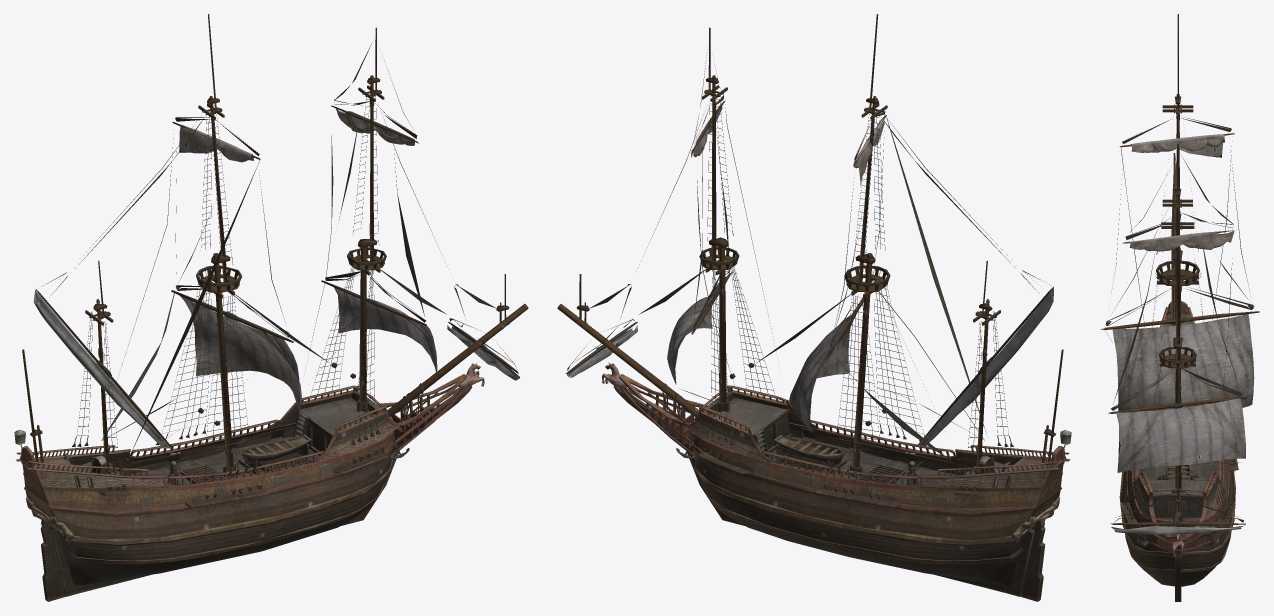
The model's file is dutch_ship_medium.slim.glb.
3 views of the same model, side by side, from view 1: azimuth 30°, elevation 25°; view 2: azimuth 150°, elevation 25°; view 3: azimuth 270°, elevation 25° (orthographic). The views are drawn at different scales.
Size of the model in its own units: 24.07 by 24.54 by 6.81.
3 materials, 3 textured.
